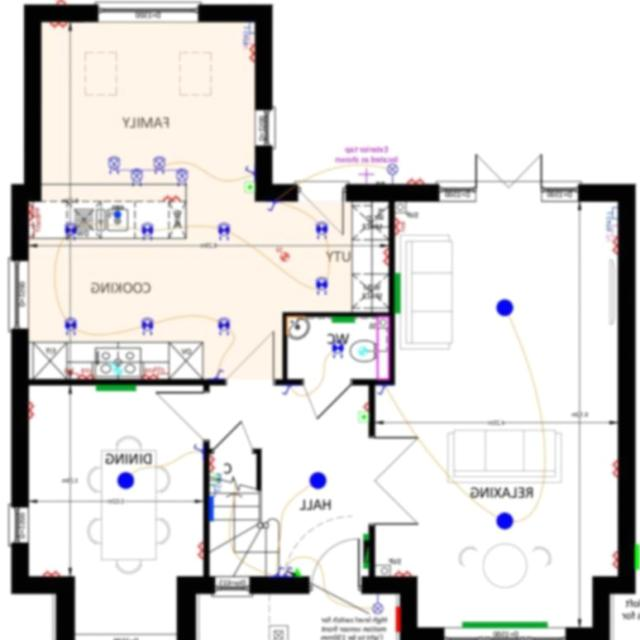BT Entry Point: (292, 567, 302, 576)
Cat 6 Data Socket: (245, 20, 255, 44), (608, 206, 618, 230), (211, 472, 221, 495)
Ceiling Mounted Continuous Extract FanWith Boost Mode Activated By Light Switch: (359, 345, 368, 355)
Ceiling Mounted Continuous Extract FanWith Local Boost Switch: (277, 246, 290, 262)
Co-Ax TV Socket: (608, 223, 618, 241), (245, 32, 255, 47)
Consumer Unit: (364, 539, 370, 562)
Double Socket: (408, 176, 425, 184), (165, 193, 181, 201), (611, 460, 619, 476), (51, 21, 69, 28), (45, 568, 60, 576), (30, 401, 37, 418), (210, 454, 217, 471), (198, 541, 204, 559), (395, 569, 413, 575), (612, 236, 618, 254), (249, 44, 255, 61), (612, 551, 618, 567), (384, 247, 389, 265)
Electric Meter Box: (396, 605, 401, 632)
External Wall Light: (373, 593, 384, 613), (388, 163, 398, 183)
Gas Meter Box: (636, 543, 640, 569)
Grid Switch: (30, 214, 42, 236)
Hob Switch: (66, 367, 80, 378)
Light Switch: (267, 200, 279, 211), (377, 384, 388, 394), (282, 384, 292, 394), (246, 166, 256, 176), (194, 443, 204, 453), (284, 566, 294, 576), (276, 566, 286, 576), (216, 369, 225, 378)
Low Energy Downlighter: (218, 222, 232, 240), (218, 317, 232, 335), (142, 317, 156, 335), (332, 339, 345, 357), (65, 317, 78, 335), (316, 221, 329, 238), (142, 222, 154, 240), (66, 222, 78, 240), (317, 276, 328, 294)
Low Energy Pendant Light: (497, 298, 515, 315), (310, 471, 328, 488), (118, 471, 136, 488), (497, 512, 514, 528)
Outside Socket: (55, 0, 68, 3)
Outside Tap: (360, 167, 376, 183)
Oven Switch: (156, 366, 170, 378)
Programmable Room Thermostat: (359, 410, 369, 421), (246, 181, 256, 192)
Radiator: (463, 621, 548, 627), (97, 384, 137, 390), (396, 272, 401, 313), (364, 533, 369, 568), (333, 316, 356, 322)
Single Socket: (363, 402, 370, 410)
Telephone Socket: (210, 472, 222, 485)
Track Light: (109, 155, 190, 185)
USB Double Socket: (395, 217, 407, 233), (29, 203, 40, 220), (142, 367, 158, 378), (79, 368, 96, 378)
Underfloor Heating Manifold: (210, 495, 214, 521)
Water Entry Position: (115, 210, 122, 217)
